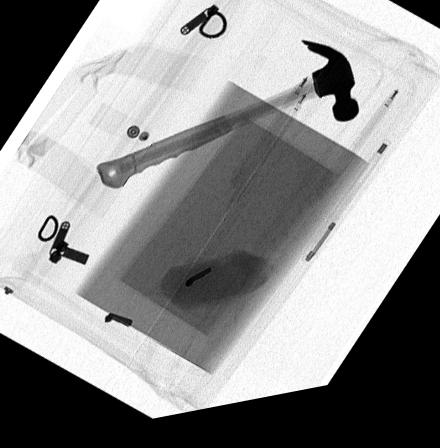Hammer: (94, 51, 359, 194)
